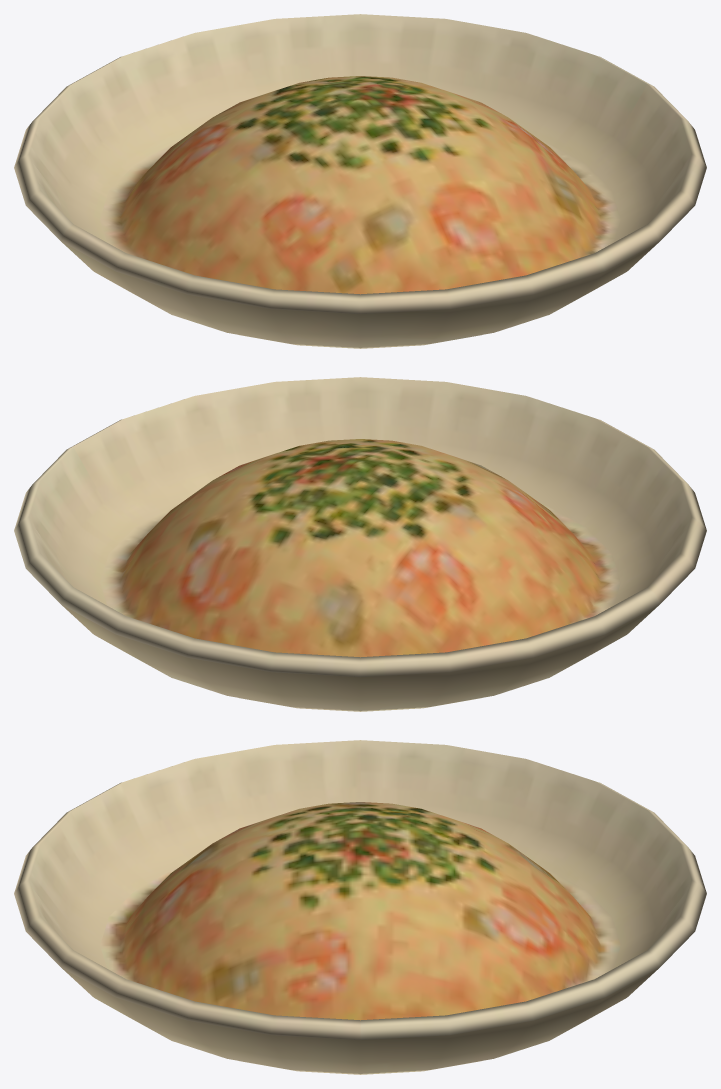
The picture shows the model from 3 angles, top to bottom: view 1: azimuth 30°, elevation 25°; view 2: azimuth 150°, elevation 25°; view 3: azimuth 270°, elevation 25°; orthographic projection.
Bounding box in the file's own units: 7.11 × 1.65 × 7.11.
1 material, 1 textured.
